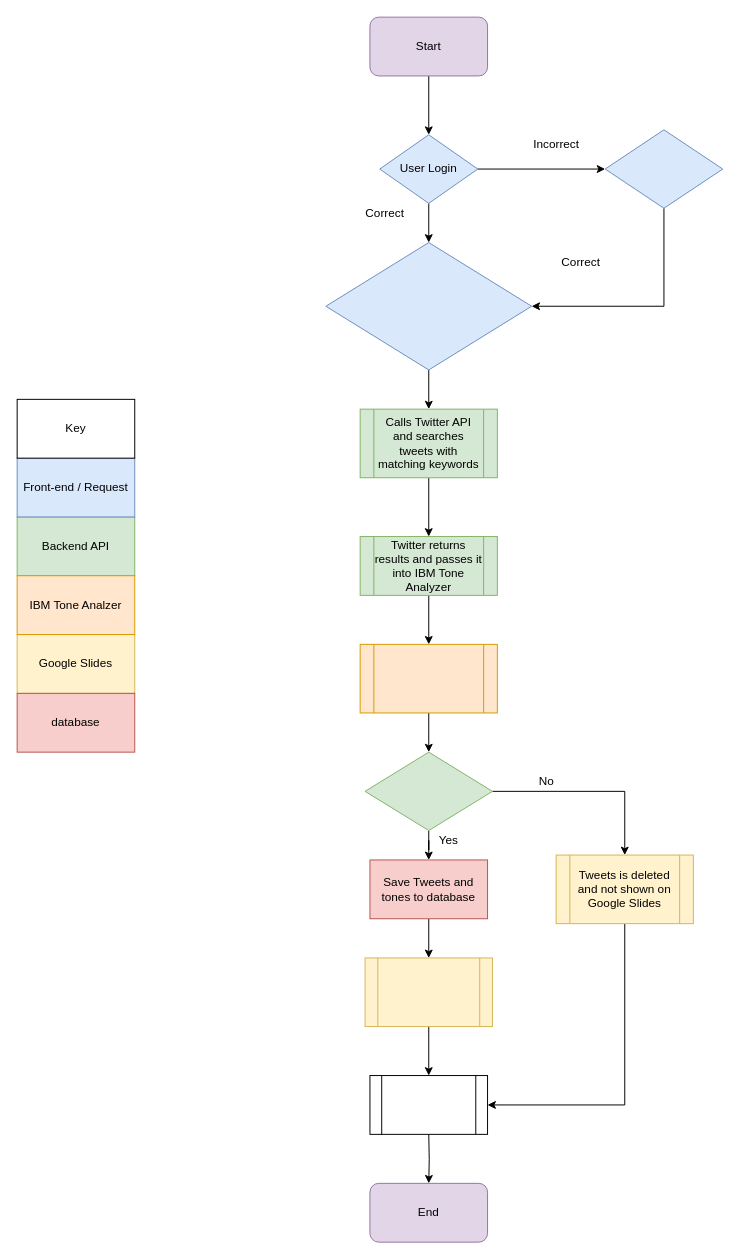
The diagram is 740 pixels wide and 1259 high, and some of its shapes have lost their labels. The shapes that lost their labels are listed below. From the top down, each one's box as (x1, y1, x2, y2) in pixels, then its label:
(604, 129, 723, 208): Users re-enters the password
(325, 242, 532, 370): User enters: - Time Range - Keyword(s) - Tones to detect
(359, 643, 497, 713): Analyses tweets for matching tones
(364, 751, 492, 831): Are there matching tones?
(364, 957, 492, 1027): Put tweet into corresponding presentation slides
(369, 1075, 488, 1134): Shows log of searched tweets
